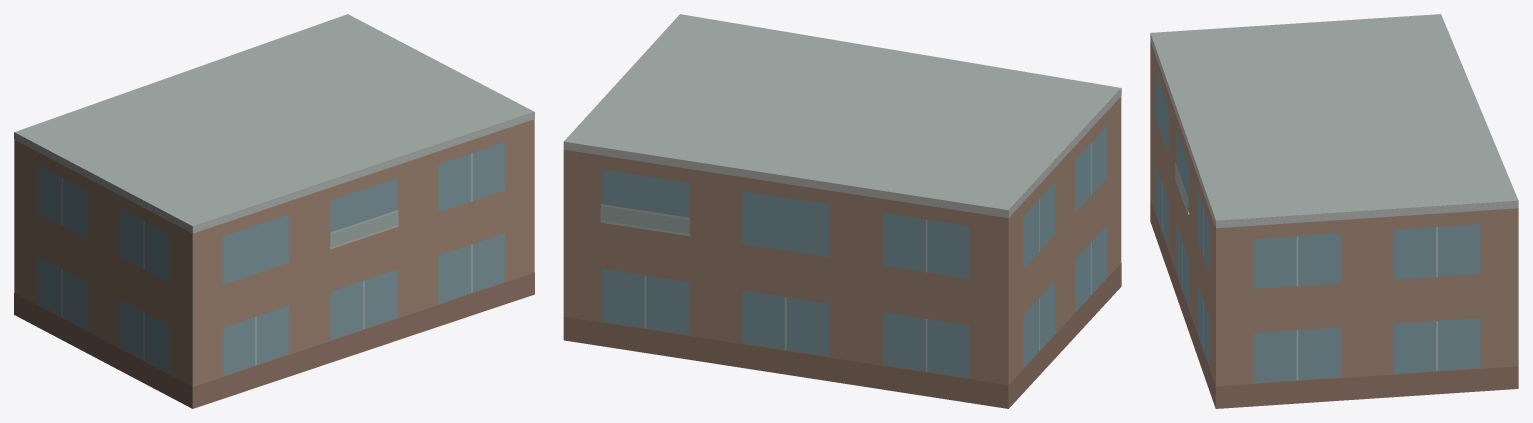
The model's file is survey-upis-32964243.glb.
The picture shows the model from 3 angles, left to right: view 1: azimuth 30°, elevation 25°; view 2: azimuth 150°, elevation 25°; view 3: azimuth 270°, elevation 25°; orthographic projection. The views are drawn at different scales.
Parts seen in each view (by area): view 1: survey-upis-32964243.tmp; view 2: survey-upis-32964243.tmp; view 3: survey-upis-32964243.tmp.
Part boxes in pixels (x1=…): survey-upis-32964243.tmp: x1=14, y1=14, x2=534, y2=408; survey-upis-32964243.tmp: x1=563, y1=14, x2=1121, y2=408; survey-upis-32964243.tmp: x1=1150, y1=14, x2=1518, y2=408.
Bounding box in the file's own units: 14.39 × 6.1 × 10.84.
